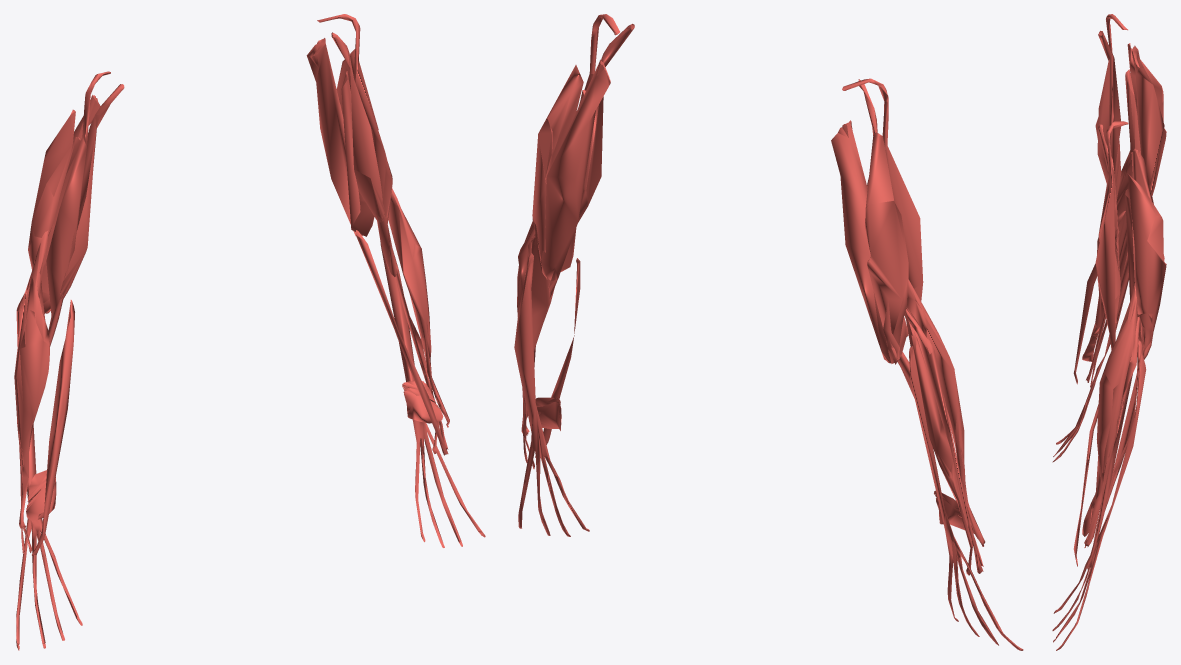
The model's file is supplement-elbow-forearm-muscle-VMGM5K67.glb.
3 renders of one model, left to right at view 1: azimuth 30°, elevation 25°; view 2: azimuth 150°, elevation 25°; view 3: azimuth 270°, elevation 25°, orthographic. The views are drawn at different scales.
Parts seen in each view (by area): view 1: elbow-forearm:brachioradialis:isa:FJ1487, elbow-forearm:biceps-brachii:isa:FJ1478, elbow-forearm:triceps-brachii:isa:FJ1479M, elbow-forearm:extensor-digitorum:isa:FJ1492M, elbow-forearm:brachioradialis:isa:FJ1487M, elbow-forearm:triceps-brachii:isa:FJ1477, elbow-forearm:biceps-brachii:isa:FJ1512M, elbow-forearm:flexor-carpi-radialis:isa:FJ1496, elbow-forearm:extensor-digitorum:isa:FJ1492, elbow-forearm:biceps-brachii:isa:FJ1478M, elbow-forearm:biceps-brachii:isa:FJ1512, elbow-forearm:triceps-brachii:isa:FJ1480M (+5 smaller); view 2: elbow-forearm:triceps-brachii:isa:FJ1477, elbow-forearm:triceps-brachii:isa:FJ1479M, elbow-forearm:triceps-brachii:isa:FJ1479, elbow-forearm:extensor-digitorum:isa:FJ1492M, elbow-forearm:triceps-brachii:isa:FJ1477M, elbow-forearm:brachioradialis:isa:FJ1487, elbow-forearm:extensor-digitorum:isa:FJ1492, elbow-forearm:biceps-brachii:isa:FJ1478, elbow-forearm:extensor-carpi-radialis-brevis:isa:FJ1489, elbow-forearm:extensor-carpi-radialis-longus:isa:FJ1490, elbow-forearm:biceps-brachii:isa:FJ1512M, elbow-forearm:brachioradialis:isa:FJ1487M (+3 smaller); view 3: elbow-forearm:triceps-brachii:isa:FJ1477M, elbow-forearm:brachioradialis:isa:FJ1487M, elbow-forearm:triceps-brachii:isa:FJ1479, elbow-forearm:biceps-brachii:isa:FJ1478M, elbow-forearm:biceps-brachii:isa:FJ1512, elbow-forearm:extensor-digitorum:isa:FJ1492M, elbow-forearm:extensor-carpi-radialis-longus:isa:FJ1490M, elbow-forearm:biceps-brachii:isa:FJ1512M, elbow-forearm:extensor-carpi-radialis-brevis:isa:FJ1489M, elbow-forearm:extensor-digitorum:isa:FJ1492, elbow-forearm:brachioradialis:isa:FJ1487, elbow-forearm:triceps-brachii:isa:FJ1477 (+10 smaller).
Part boxes in pixels (x1,y1,x2,y2): elbow-forearm:brachioradialis:isa:FJ1487: (14,230,49,530); elbow-forearm:biceps-brachii:isa:FJ1478: (46,71,110,346); elbow-forearm:triceps-brachii:isa:FJ1479M: (306,38,362,235); elbow-forearm:extensor-digitorum:isa:FJ1492M: (380,241,485,547); elbow-forearm:brachioradialis:isa:FJ1487M: (388,188,449,427); elbow-forearm:triceps-brachii:isa:FJ1477: (28,109,75,270); elbow-forearm:biceps-brachii:isa:FJ1512M: (331,32,384,222); elbow-forearm:flexor-carpi-radialis:isa:FJ1496: (32,300,74,555); elbow-forearm:extensor-digitorum:isa:FJ1492: (16,424,82,650); elbow-forearm:biceps-brachii:isa:FJ1478M: (317,14,396,276); elbow-forearm:biceps-brachii:isa:FJ1512: (59,84,124,300); elbow-forearm:triceps-brachii:isa:FJ1480M: (341,71,374,236); elbow-forearm:triceps-brachii:isa:FJ1477: (865,132,908,363); elbow-forearm:triceps-brachii:isa:FJ1479M: (541,59,610,280); elbow-forearm:triceps-brachii:isa:FJ1479: (831,120,897,363); elbow-forearm:extensor-digitorum:isa:FJ1492M: (514,253,589,536); elbow-forearm:triceps-brachii:isa:FJ1477M: (532,65,583,266); elbow-forearm:brachioradialis:isa:FJ1487: (906,279,985,546); elbow-forearm:extensor-digitorum:isa:FJ1492: (909,346,1023,650); elbow-forearm:biceps-brachii:isa:FJ1478: (842,78,923,346); elbow-forearm:extensor-carpi-radialis-brevis:isa:FJ1489: (911,332,972,575); elbow-forearm:extensor-carpi-radialis-longus:isa:FJ1490: (905,309,983,573); elbow-forearm:biceps-brachii:isa:FJ1512M: (578,23,634,222); elbow-forearm:brachioradialis:isa:FJ1487M: (517,221,554,435); elbow-forearm:triceps-brachii:isa:FJ1477M: (1127,173,1166,355); elbow-forearm:brachioradialis:isa:FJ1487M: (1084,281,1137,547); elbow-forearm:triceps-brachii:isa:FJ1479: (1131,45,1164,193); elbow-forearm:biceps-brachii:isa:FJ1478M: (1095,121,1128,350); elbow-forearm:biceps-brachii:isa:FJ1512: (1097,30,1121,188); elbow-forearm:extensor-digitorum:isa:FJ1492M: (1052,353,1146,650); elbow-forearm:extensor-carpi-radialis-longus:isa:FJ1490M: (1086,317,1139,569); elbow-forearm:biceps-brachii:isa:FJ1512M: (1097,124,1120,331); elbow-forearm:extensor-carpi-radialis-brevis:isa:FJ1489M: (1090,339,1142,567); elbow-forearm:extensor-digitorum:isa:FJ1492: (1052,252,1128,462); elbow-forearm:brachioradialis:isa:FJ1487: (1089,150,1130,347); elbow-forearm:triceps-brachii:isa:FJ1477: (1127,43,1166,195).
Bounding box in the file's own units: 0.6101 × 0.6614 × 0.1423.
